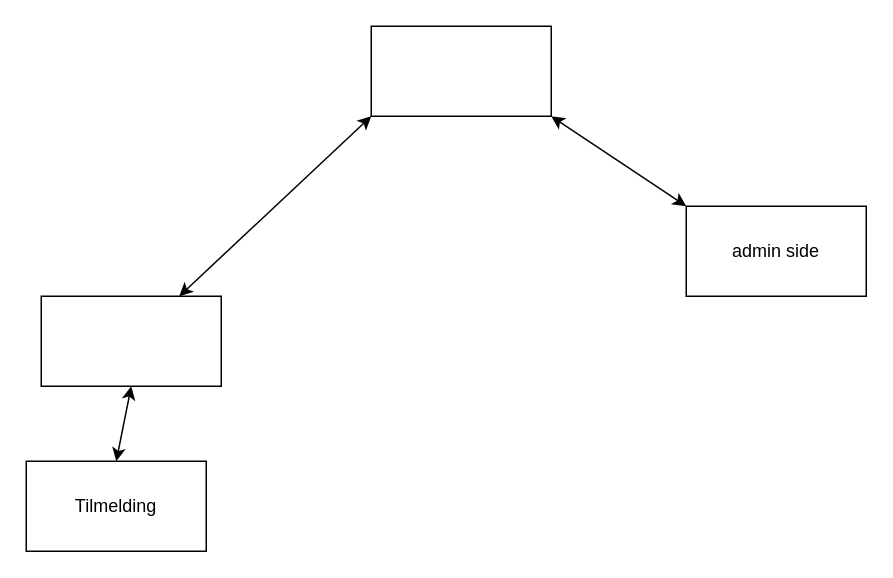
The diagram is 893 pixels wide and 578 high, and some of its shapes have lost their labels. The shapes that lost their labels are listed below. From the top down, each one's centre as x and y in pixels, then its label:
[460,70]: Forside
[130,340]: enkelt visning praktikstedet
